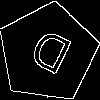D: (22, 27, 75, 85)
